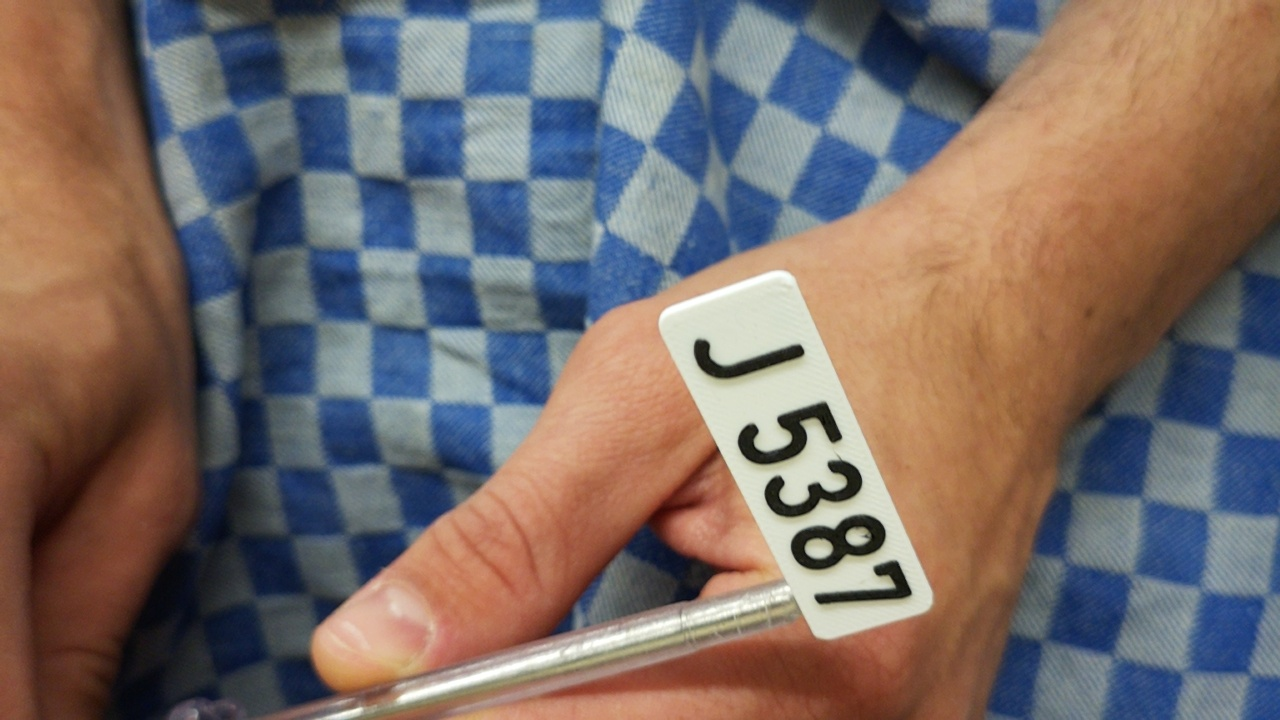license_plate: (655, 266, 938, 644)
